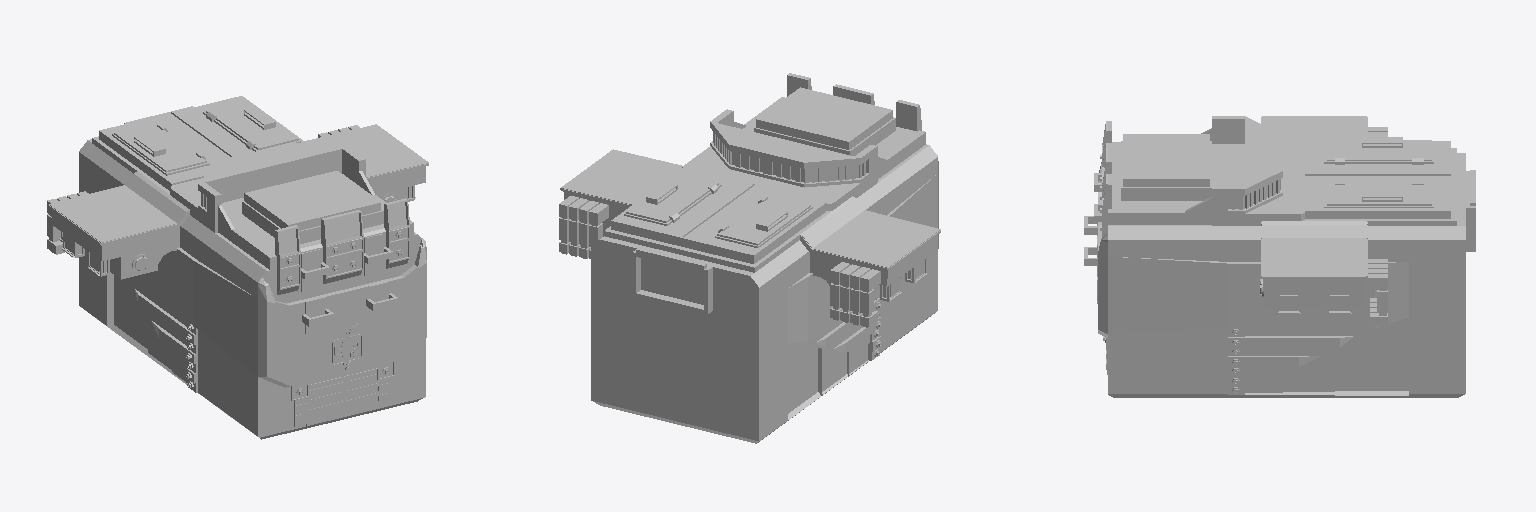
The model's file is t50body.obj.
The picture shows the model from 3 angles: view 1: azimuth 30°, elevation 25°; view 2: azimuth 150°, elevation 25°; view 3: azimuth 270°, elevation 25°; orthographic projection.
Parts seen in each view (by area): view 1: Mesh149 Group15 Model, Mesh51 Group8 Model, Mesh205 Group17 Model, Mesh147 Group14 Model, Mesh49 Group7 Model; view 2: Mesh149 Group15 Model, Mesh51 Group8 Model; view 3: Mesh51 Group8 Model, Mesh149 Group15 Model.
Boxes of the visible parts, <box> form: Mesh149 Group15 Model: <box>47,112,346,439</box>; Mesh51 Group8 Model: <box>159,96,428,419</box>; Mesh205 Group17 Model: <box>315,318,378,369</box>; Mesh147 Group14 Model: <box>302,297,333,333</box>; Mesh49 Group7 Model: <box>366,282,398,317</box>; Mesh149 Group15 Model: <box>670,89,940,443</box>; Mesh51 Group8 Model: <box>559,73,853,424</box>; Mesh51 Group8 Model: <box>1094,153,1475,397</box>; Mesh149 Group15 Model: <box>1094,116,1475,224</box>.
Size of the model in its own units: 1.95 by 1.17 by 2.01.